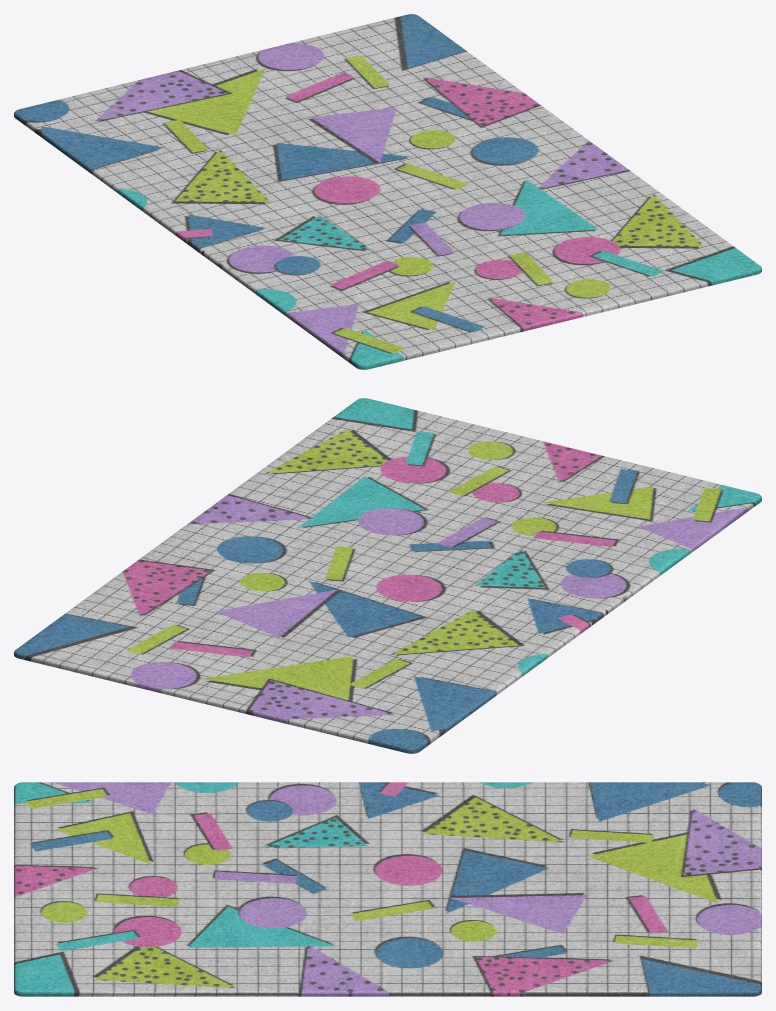
File: video_store_carpet_small.dae
3 views of the same model, one above another, from view 1: azimuth 30°, elevation 25°; view 2: azimuth 150°, elevation 25°; view 3: azimuth 270°, elevation 25° (orthographic). The views are drawn at different scales.
Visible parts, largest first — view 1: Mesh1_Group1_Model; view 2: Mesh1_Group1_Model; view 3: Mesh1_Group1_Model.
Boxes of the visible parts, x1,y1,x2,y2 form: Mesh1_Group1_Model: [14, 14, 761, 369]; Mesh1_Group1_Model: [14, 398, 761, 753]; Mesh1_Group1_Model: [14, 782, 761, 996].
Size of the model in its own units: 1 by 1.5 by 0.01.
